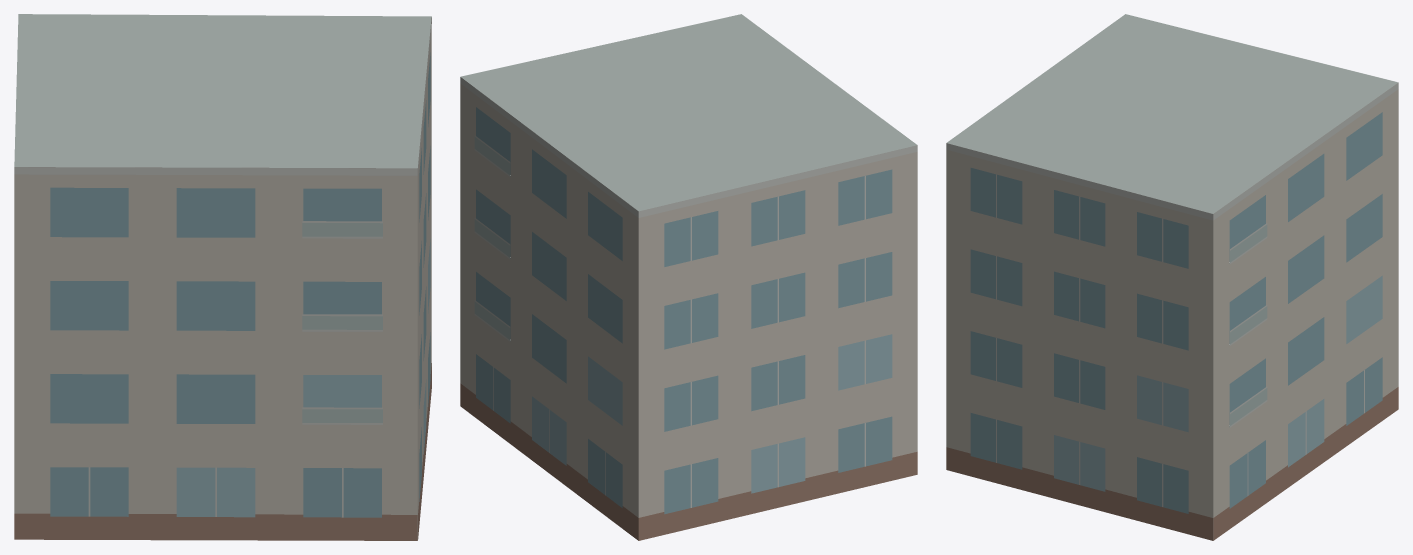
Rendered from survey-upis-32774204.glb.
3 renders of one model, left to right at view 1: azimuth 30°, elevation 25°; view 2: azimuth 150°, elevation 25°; view 3: azimuth 270°, elevation 25°, orthographic. The views are drawn at different scales.
Visible parts, largest first — view 1: survey-upis-32774204.tmp; view 2: survey-upis-32774204.tmp; view 3: survey-upis-32774204.tmp.
Part boxes in pixels (box(x1,y1,x2,y2)): survey-upis-32774204.tmp: box(14, 14, 431, 540); survey-upis-32774204.tmp: box(460, 14, 917, 540); survey-upis-32774204.tmp: box(946, 14, 1398, 540).
Size of the model in its own units: 16.02 by 12.2 by 15.31.
